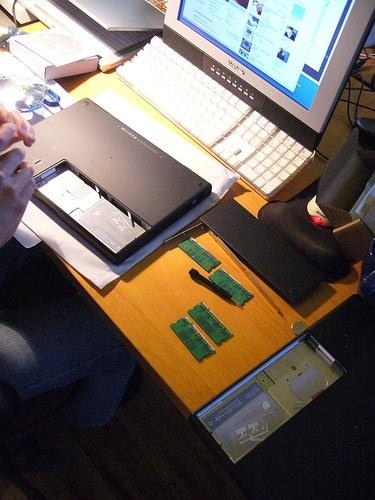tvmonitor: (167, 1, 375, 128)
